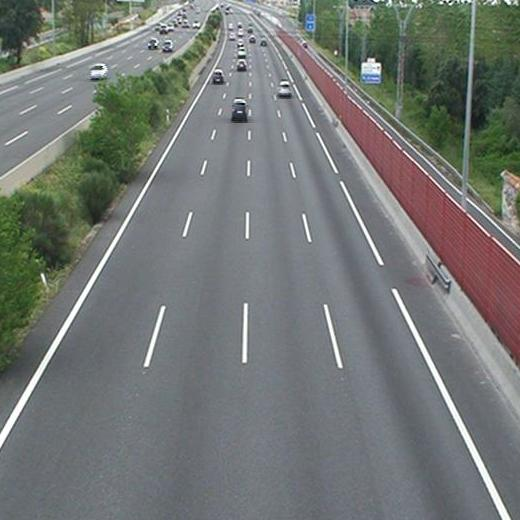car: (232, 100, 248, 119), (278, 82, 292, 95), (212, 69, 224, 82), (236, 48, 247, 58), (237, 60, 247, 70), (236, 39, 244, 48), (260, 37, 267, 45), (248, 35, 253, 42)
